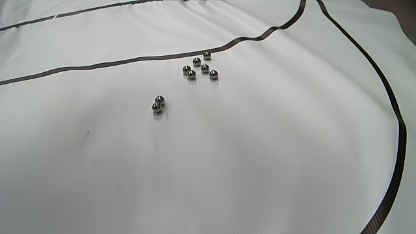ironball: (152, 102, 162, 113), (155, 95, 164, 105), (209, 70, 218, 80), (187, 70, 196, 80), (200, 64, 209, 74), (182, 65, 190, 76), (192, 57, 201, 66), (203, 51, 211, 60)
